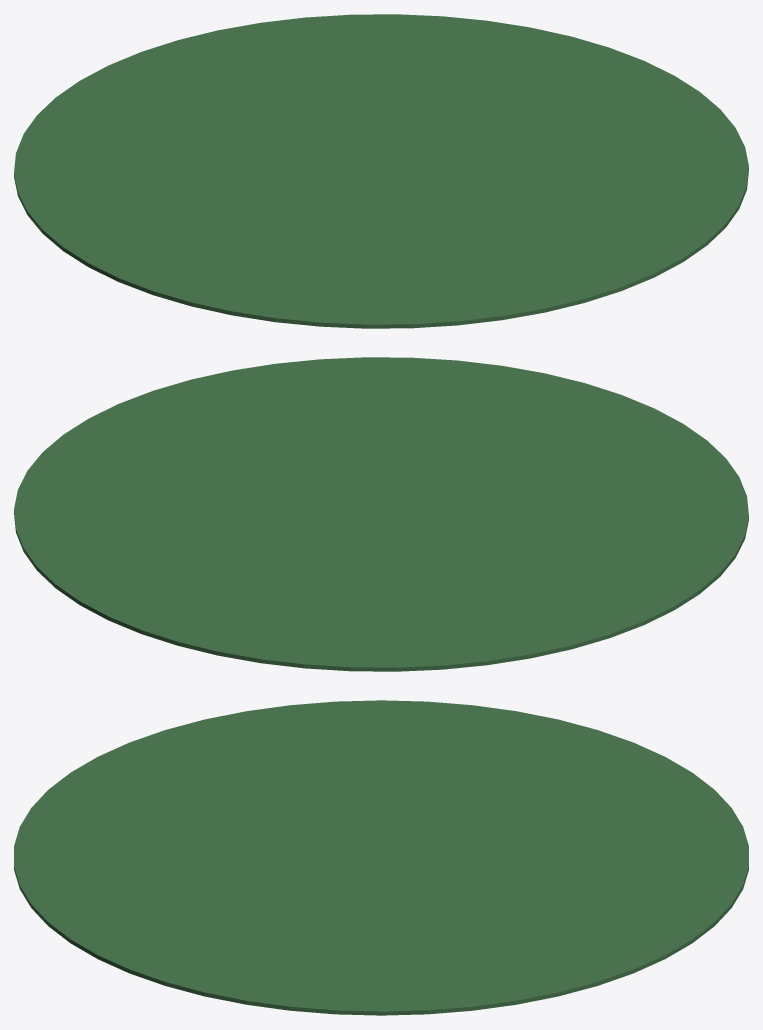
File: SM_Floor.fbx
The picture shows the model from 3 angles, top to bottom: view 1: azimuth 30°, elevation 25°; view 2: azimuth 150°, elevation 25°; view 3: azimuth 270°, elevation 25°; orthographic projection.
Parts seen in each view (by area): view 1: polySurface33; view 2: polySurface33; view 3: polySurface33.
Boxes of the visible parts, bbox=[...] form: polySurface33: bbox=[14, 14, 748, 328]; polySurface33: bbox=[14, 357, 748, 671]; polySurface33: bbox=[14, 700, 748, 1015].
Size of the model in its own units: 2094 by 12.6 by 2090.
